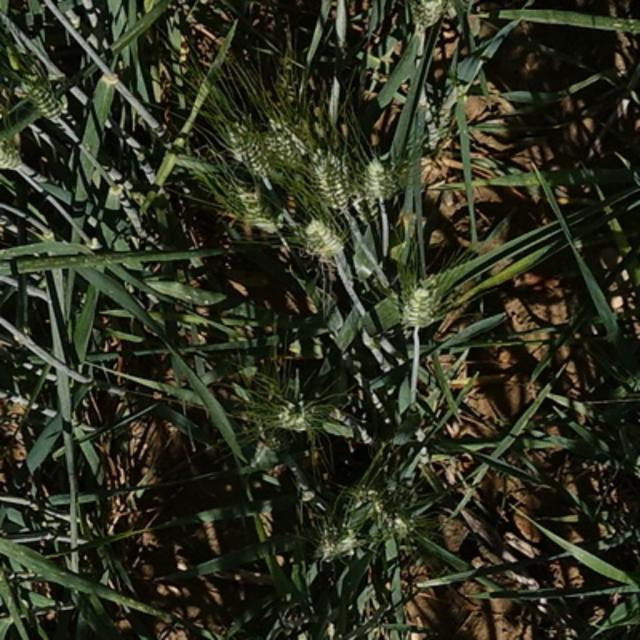healthy_wheat: (3, 3, 233, 328), (237, 11, 436, 380), (8, 348, 203, 640), (214, 401, 437, 640), (515, 6, 640, 331), (433, 514, 640, 640), (467, 378, 640, 489), (434, 0, 503, 159), (444, 247, 528, 361)
